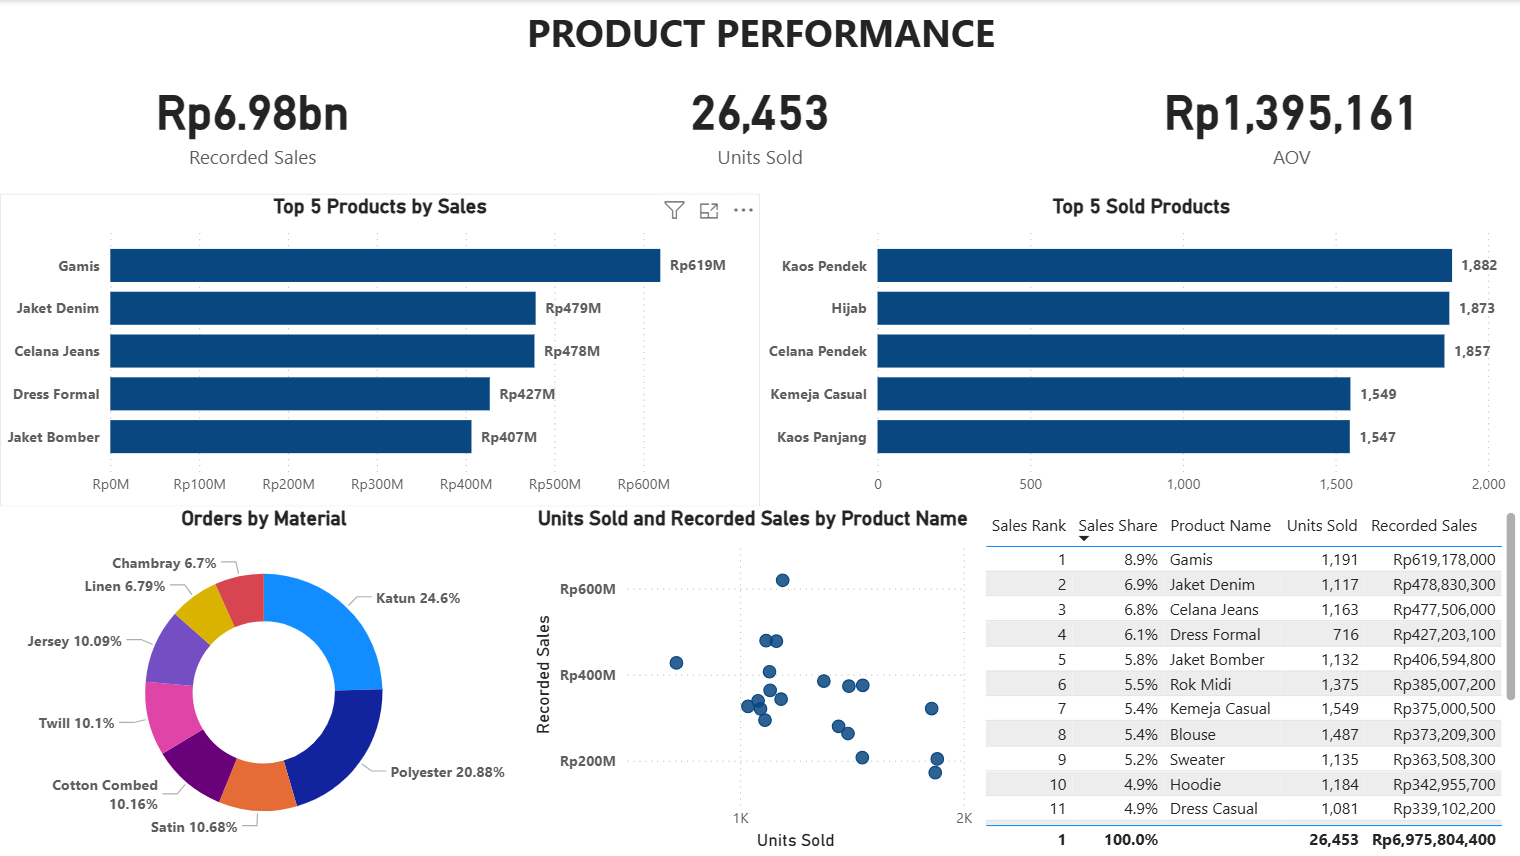

The page's visual inventory and layout, read from the dashboard file:
{"tool":"powerbi","page":{"name":"03_Product Performance","canvas":[1280,720],"ordinal":3},"visuals":[{"type":"textbox","box":[0,0,1280.2,54.7],"z":0},{"type":"card","fields":{"Values":["_Measures.Recorded Sales"]},"box":[0,50,425.6,102.3],"z":1000},{"type":"card","fields":{"Values":["_Measures.Units Sold"]},"box":[422.1,50,436,102.3],"z":2000},{"type":"card","fields":{"Values":["_Measures.AOV"]},"box":[894.2,50,386,102.3],"z":3000},{"type":"clusteredBarChart","title":"Top 5 Products by Sales","fields":{"Category":["fashion_sales_clean.Product Name"],"Y":["_Measures.Recorded Sales"]},"box":[0,162.8,639.5,262.8],"z":4000},{"type":"clusteredBarChart","title":"Top 5 Sold Products","fields":{"Category":["fashion_sales_clean.Product Name"],"Y":["_Measures.Units Sold","_Measures.Units Sold"]},"box":[640.7,162.8,639.5,262.8],"z":5000},{"type":"donutChart","fields":{"Category":["fashion_sales_clean.Material"],"Y":["_Measures.Orders"]},"box":[0,425.6,444.2,294.2],"z":6000},{"type":"scatterChart","fields":{"X":["_Measures.Units Sold"],"Y":["_Measures.Recorded Sales"],"Category":["fashion_sales_clean.Product Name"]},"box":[444.2,425.6,379.1,294.2],"z":7000},{"type":"tableEx","fields":{"Values":["_Measures.Sales Rank","_Measures.Sales Share","fashion_sales_clean.Product Name","_Measures.Units Sold","_Measures.Recorded Sales"]},"box":[823.3,425.6,457,294.2],"z":8000}]}

Visuals, with their boxes in screenshot pixels (x1, y1, x2, y2), scaled from the page's 1280x720 canvas onto the 1520x856 screenshot:
textbox: 0/0/1519/65
card - _Measures.Recorded Sales: 0/59/505/181
card - _Measures.Units Sold: 501/59/1019/181
card - _Measures.AOV: 1062/59/1519/181
"Top 5 Products by Sales" clusteredBarChart: 0/194/759/506
"Top 5 Sold Products" clusteredBarChart: 761/194/1519/506
donutChart - fashion_sales_clean.Material x _Measures.Orders: 0/506/527/855
scatterChart - _Measures.Units Sold x _Measures.Recorded Sales: 527/506/978/855
tableEx - _Measures.Sales Rank x _Measures.Sales Share: 978/506/1519/855
